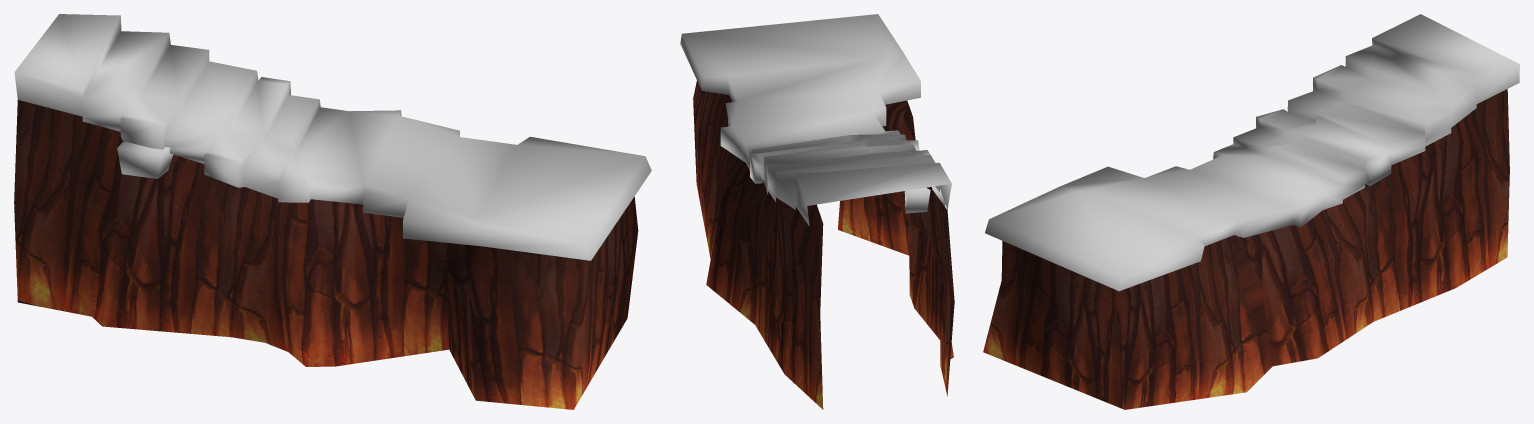
The model's file is terrain09.FBX.
3 views of the same model, side by side, from view 1: azimuth 30°, elevation 25°; view 2: azimuth 150°, elevation 25°; view 3: azimuth 270°, elevation 25° (orthographic). The views are drawn at different scales.
Parts seen in each view (by area): view 1: terrain09; view 2: terrain09; view 3: terrain09.
Boxes of the visible parts, x1,y1,x2,y2 form: terrain09: (14, 14, 651, 409); terrain09: (680, 14, 954, 409); terrain09: (983, 14, 1519, 409).
Size of the model in its own units: 1731 by 1951 by 898.
